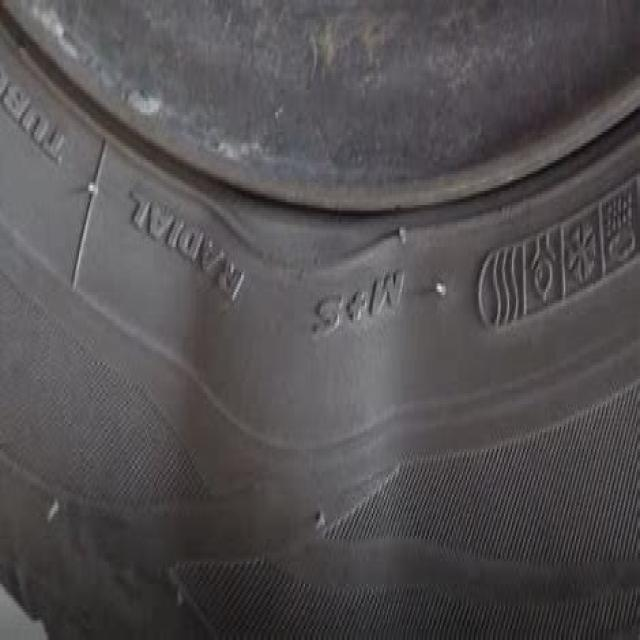Bulge: (170, 144, 403, 604)
